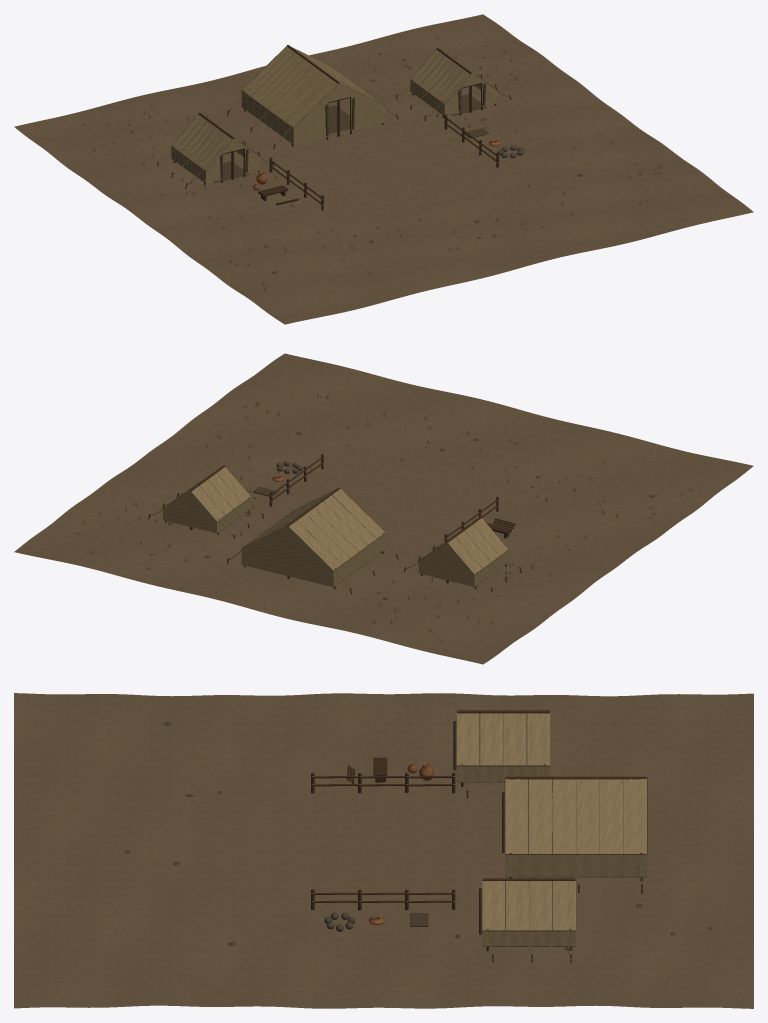
The model's file is detention-camp.glb.
3 renders of one model, top to bottom at view 1: azimuth 30°, elevation 25°; view 2: azimuth 150°, elevation 25°; view 3: azimuth 270°, elevation 25°, orthographic. The views are drawn at different scales.
Parts seen in each view (by area): view 1: Detention camp earth, Detention camp felt, Detention camp felt_dark, Detention camp wood, Detention camp grass; view 2: Detention camp earth, Detention camp felt, Detention camp wood, Detention camp felt_dark, Detention camp grass; view 3: Detention camp earth, Detention camp felt, Detention camp wood, Detention camp felt_dark, Detention camp stone.
Boxes of the visible parts, x1,y1,x2,y2 form: Detention camp earth: (14,14,753,324); Detention camp felt: (171,46,498,183); Detention camp felt_dark: (171,46,498,183); Detention camp wood: (157,45,511,210); Detention camp grass: (82,37,661,290); Detention camp earth: (14,353,753,664); Detention camp felt: (163,467,508,587); Detention camp wood: (148,454,521,594); Detention camp felt_dark: (163,466,508,587); Detention camp grass: (75,393,692,642); Detention camp earth: (14,693,753,1008); Detention camp felt: (456,711,647,946); Detention camp wood: (311,710,646,963); Detention camp felt_dark: (410,711,647,946); Detention camp stone: (125,722,712,950).
Bounding box in the file's own units: 26 × 2.95 × 26.
Materials: 8 (8 with a texture image).
